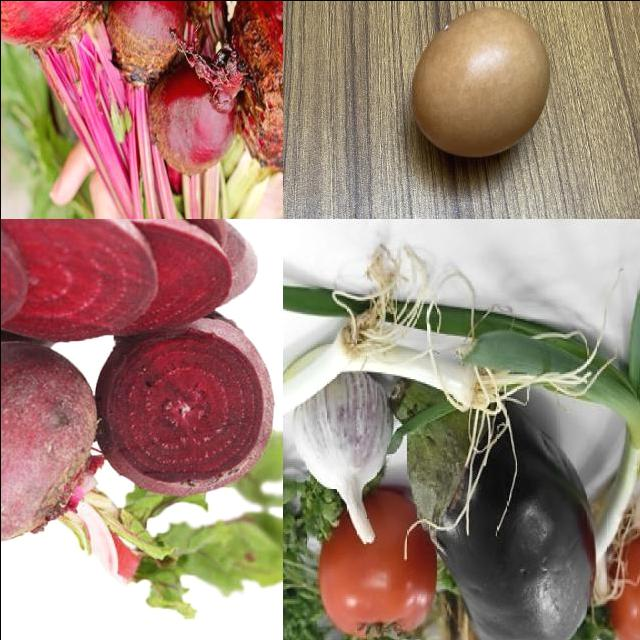beet: (99, 327, 269, 493), (1, 326, 103, 547), (148, 74, 230, 172), (238, 1, 283, 173), (107, 1, 186, 74)
egg: (401, 1, 558, 162)
eggplant: (392, 377, 594, 640)
garlic: (299, 371, 383, 541)
tomato: (317, 500, 434, 640), (610, 525, 640, 640)
